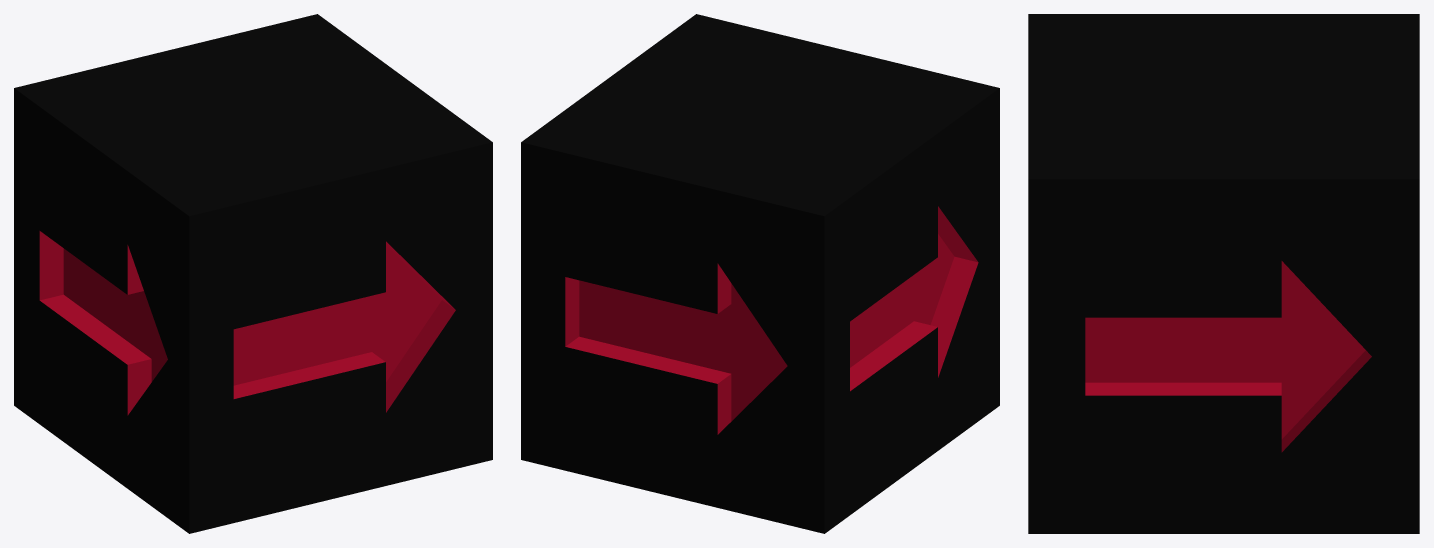
File: RotatorRight.fbx
3 views of the same model, side by side, from view 1: azimuth 30°, elevation 25°; view 2: azimuth 150°, elevation 25°; view 3: azimuth 270°, elevation 25° (orthographic). The views are drawn at different scales.
Visible parts, largest first — view 1: Rotater; view 2: Rotater; view 3: Rotater.
Boxes of the visible parts, bbox=[...] form: Rotater: bbox=[14, 14, 492, 533]; Rotater: bbox=[521, 14, 999, 533]; Rotater: bbox=[1028, 14, 1419, 533].
Size of the model in its own units: 100 by 100 by 100.
